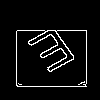E: (25, 25, 85, 83)
